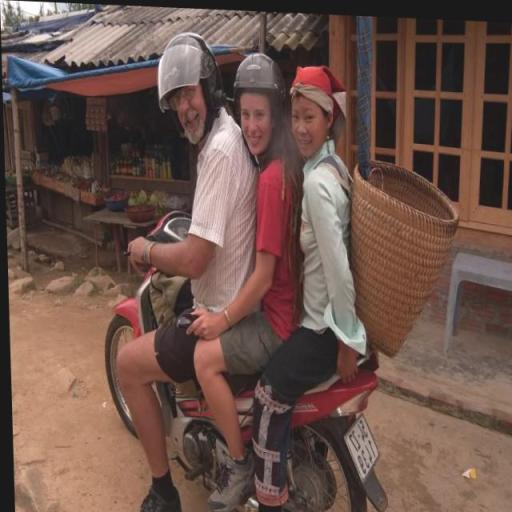tripple riding: (147, 28, 368, 489)
